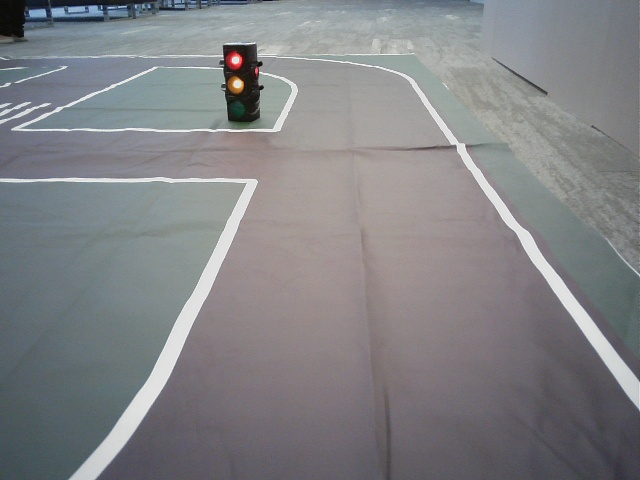red: (221, 45, 253, 120)
